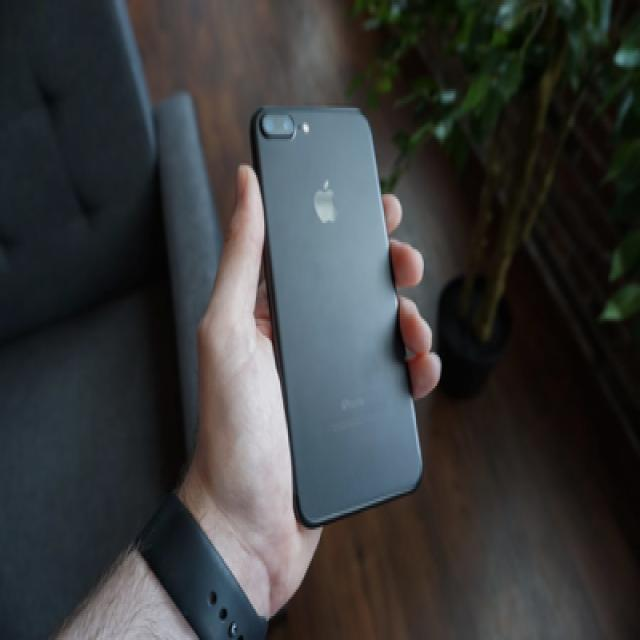cellphone: (248, 103, 422, 527)
